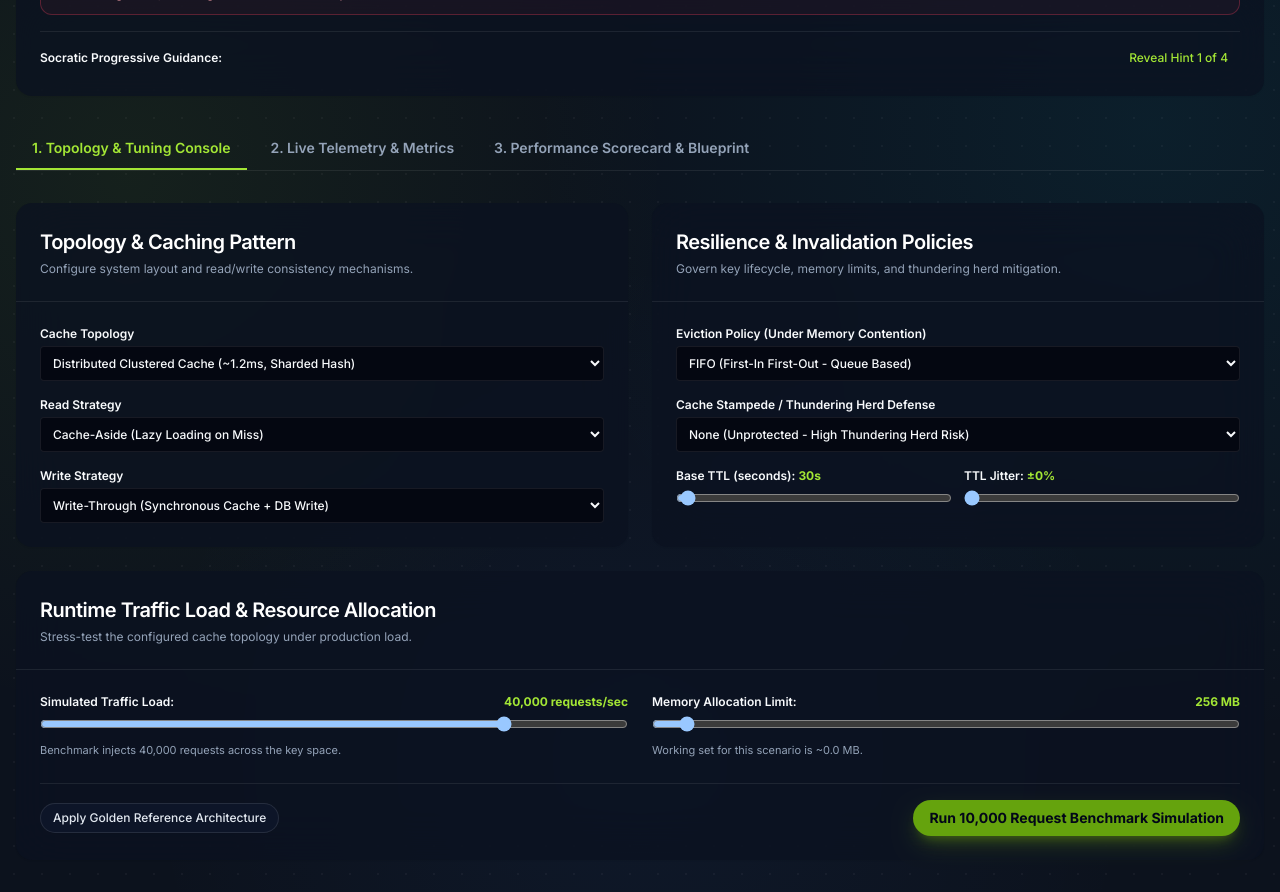
Scenario: CacheLabPage › runs 10,000 request benchmark and navigates to telemetry tab
(page scrolled)
Click the button "Run 10,000 Request Benchmark Simulation".
click(1077, 818)  # box [913,800,1240,836]
(page scrolled)
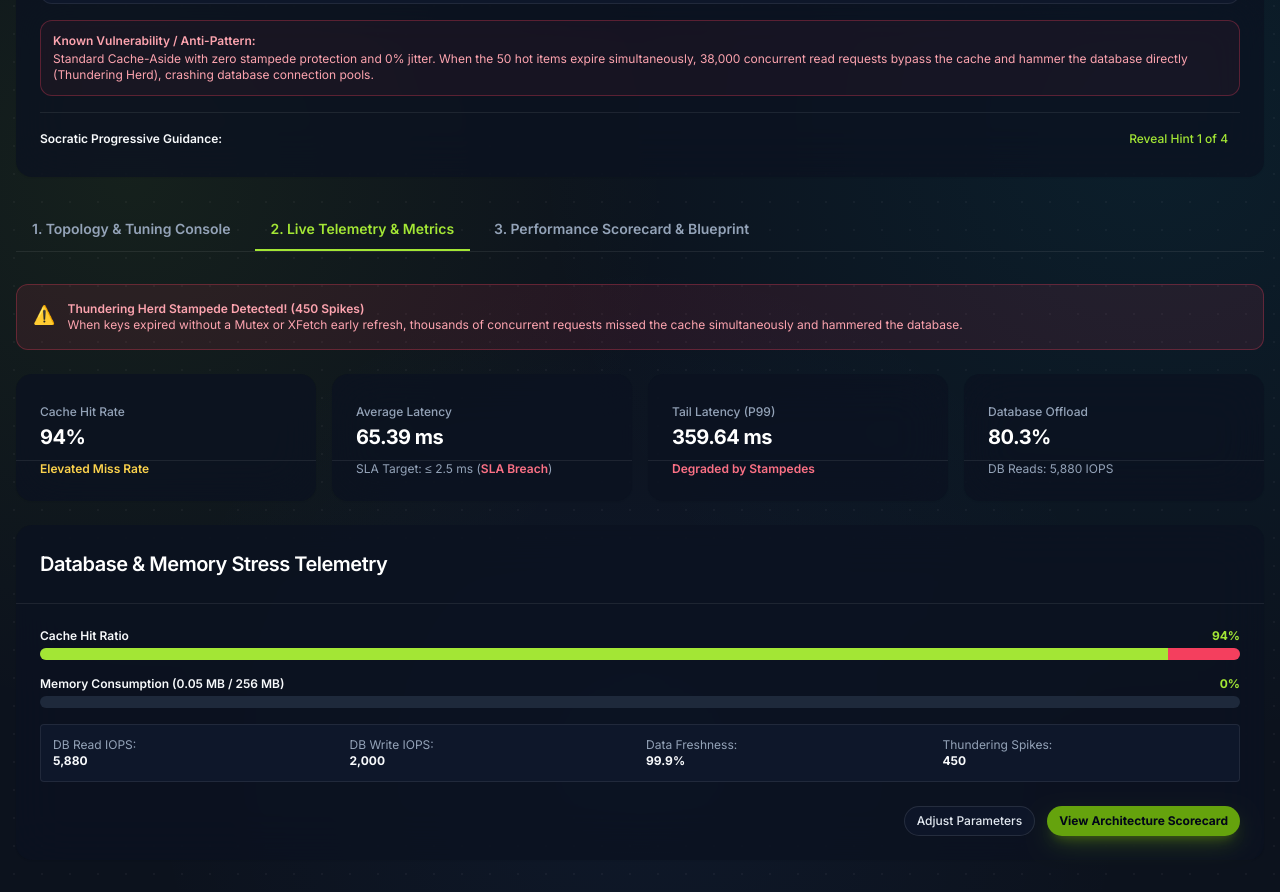
Result: the text "Cache Hit Rate" is shown at [40,404,125,419]
Result: the text "Average Latency" is shown at [356,404,452,419]
Result: the text "Database Offload" is shown at [988,404,1088,419]
